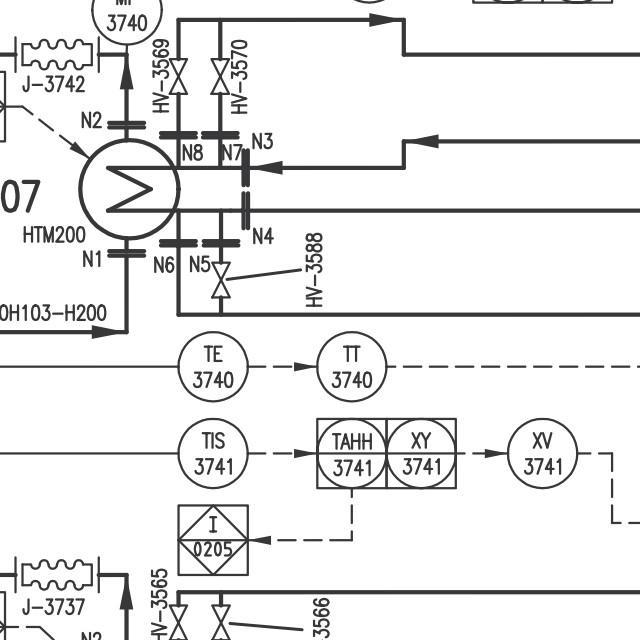EJ: (10, 30, 103, 77), (9, 551, 104, 596)
GV: (165, 596, 196, 640), (163, 50, 190, 98), (209, 257, 235, 304), (206, 599, 235, 640), (209, 50, 229, 101)
HE: (76, 139, 183, 241)
